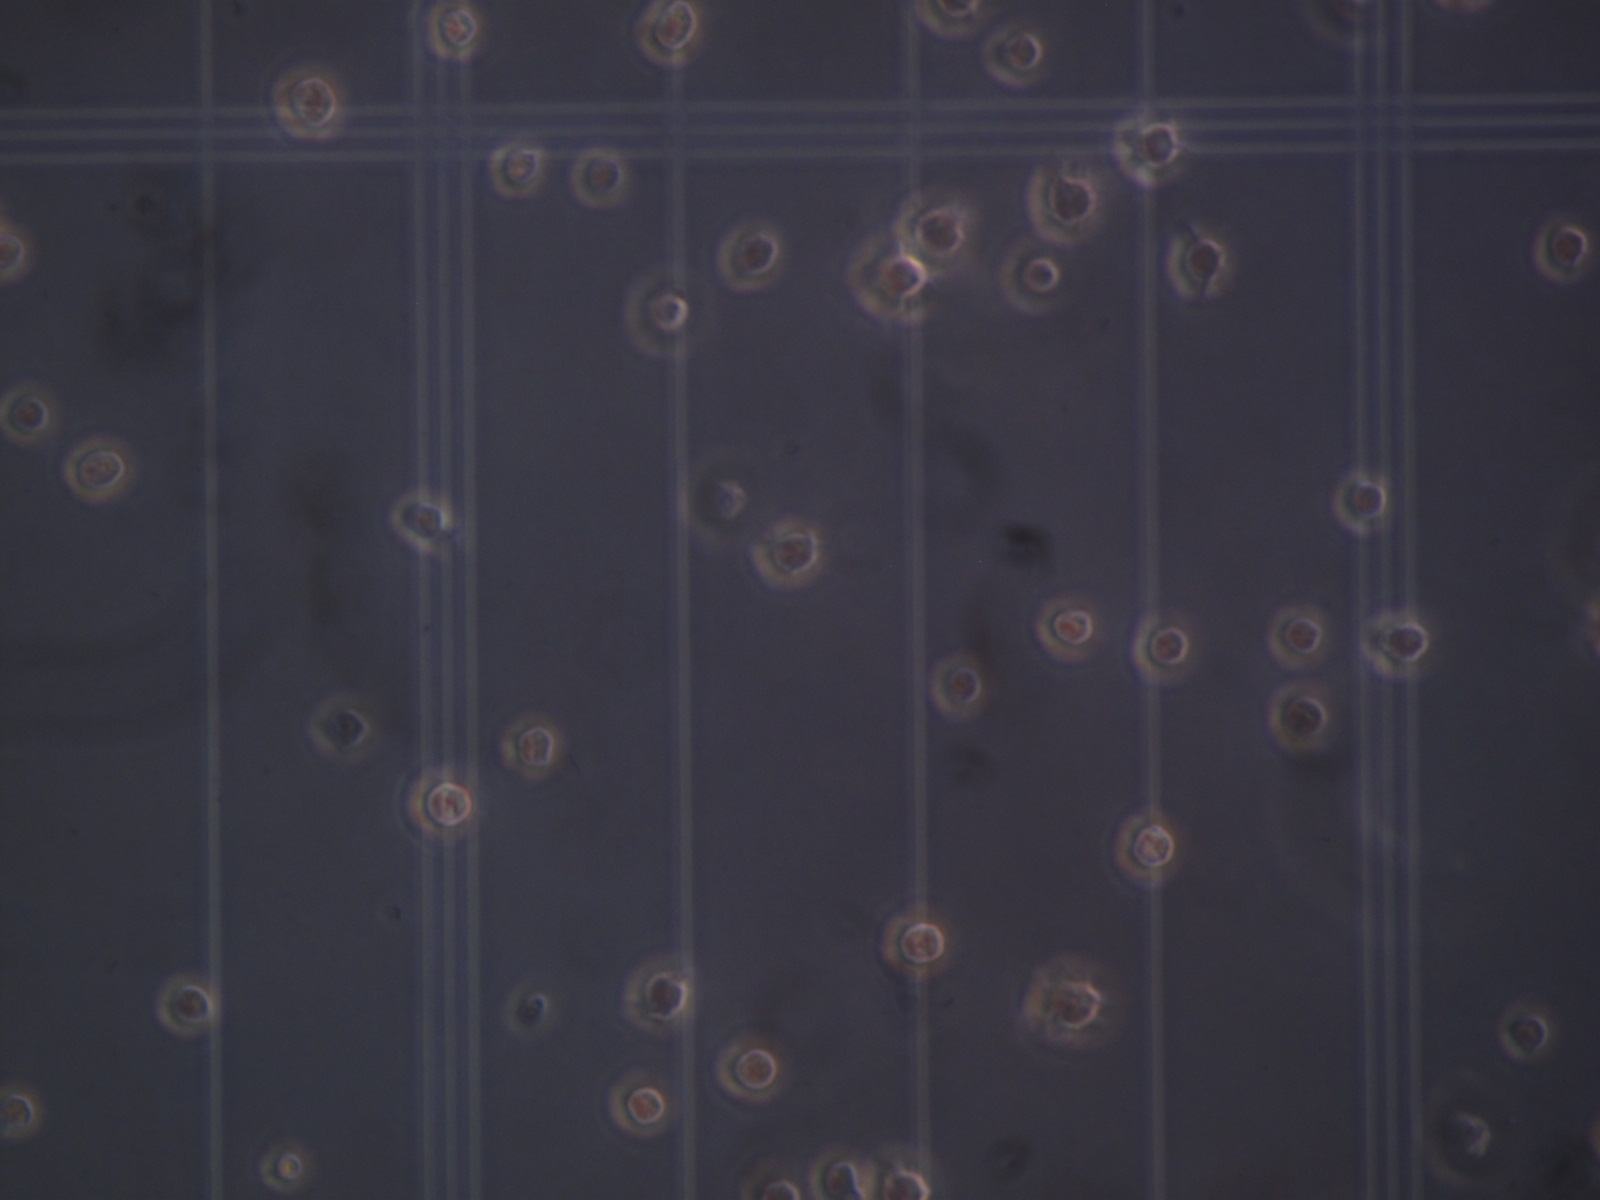hemo: (845, 236, 934, 324), (1419, 1084, 1492, 1187), (1023, 959, 1101, 1045), (894, 192, 973, 272), (679, 458, 747, 545), (1026, 166, 1101, 245), (624, 272, 690, 359), (270, 67, 343, 141), (622, 961, 693, 1034), (1112, 113, 1183, 187), (999, 239, 1061, 316), (751, 521, 821, 587), (1362, 613, 1430, 681), (881, 913, 949, 979), (408, 771, 474, 839), (716, 224, 781, 292), (1267, 683, 1330, 754), (1114, 814, 1175, 885), (63, 437, 127, 503), (635, 3, 700, 66), (1133, 614, 1191, 684), (1266, 605, 1328, 671), (307, 697, 370, 760), (1036, 597, 1097, 662), (716, 1042, 780, 1103), (1167, 233, 1227, 297), (607, 1076, 669, 1138), (981, 26, 1044, 87), (1533, 218, 1590, 284), (391, 492, 451, 552), (156, 976, 215, 1036), (569, 147, 627, 209), (1332, 471, 1388, 534), (499, 718, 557, 779), (930, 655, 983, 717), (488, 141, 544, 198), (426, 3, 481, 61), (1, 384, 52, 444), (809, 1151, 869, 1200), (1499, 1006, 1550, 1061), (260, 1145, 312, 1192), (913, 1, 980, 38), (505, 984, 552, 1036), (876, 1161, 932, 1200), (1, 1085, 40, 1139), (741, 1166, 803, 1200), (1, 223, 29, 284), (1590, 1104, 1600, 1167)
